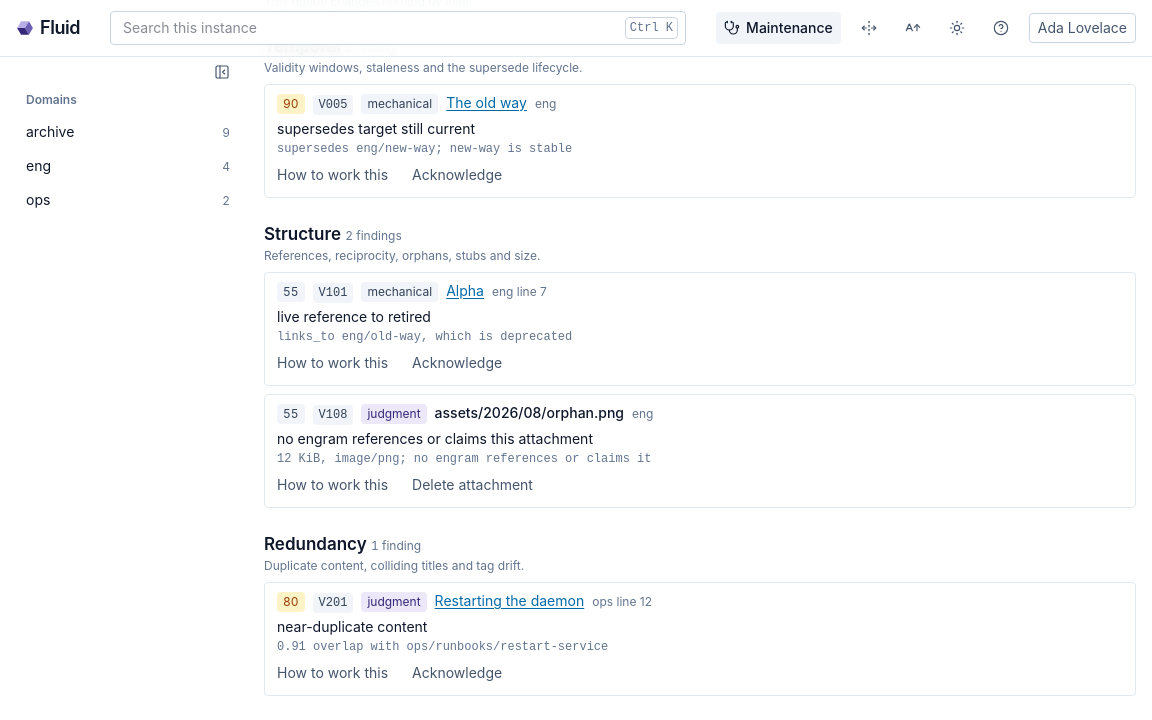
Test: a finding with no engram behind it › asks before it deletes, and takes no for an answer
(page scrolled)
Click the button "Delete attachment": (473, 485) [404,471,541,499]
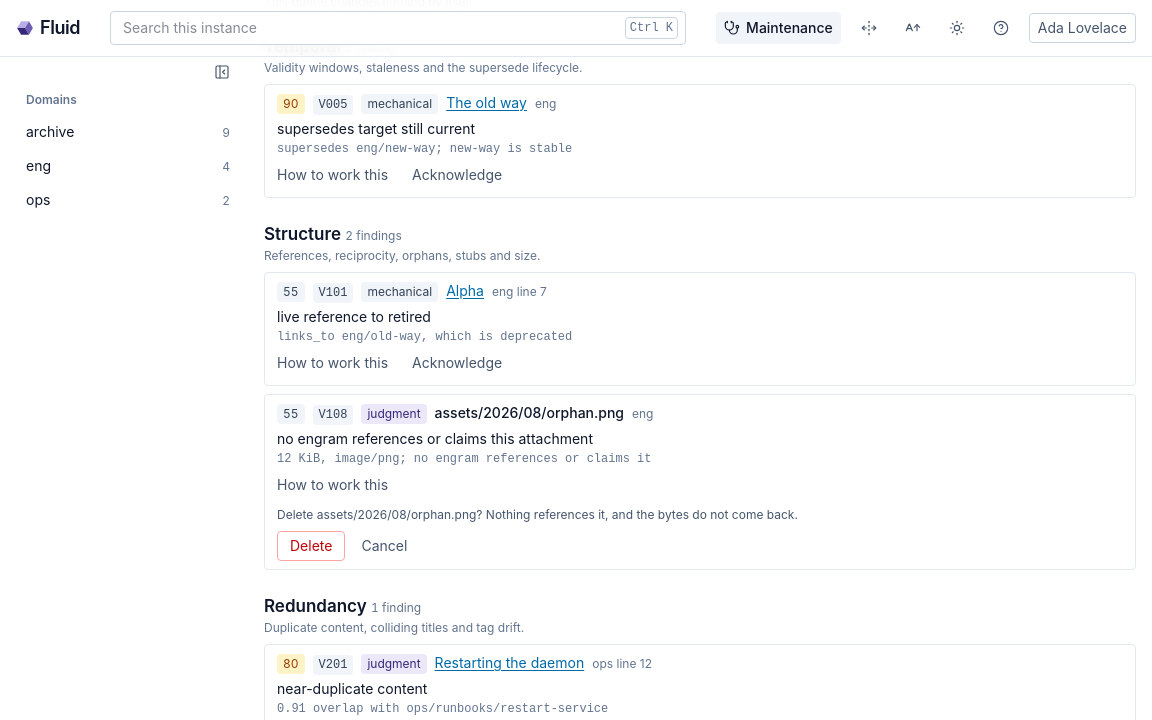
Click the button "Cancel": (384, 546) [353,531,415,561]
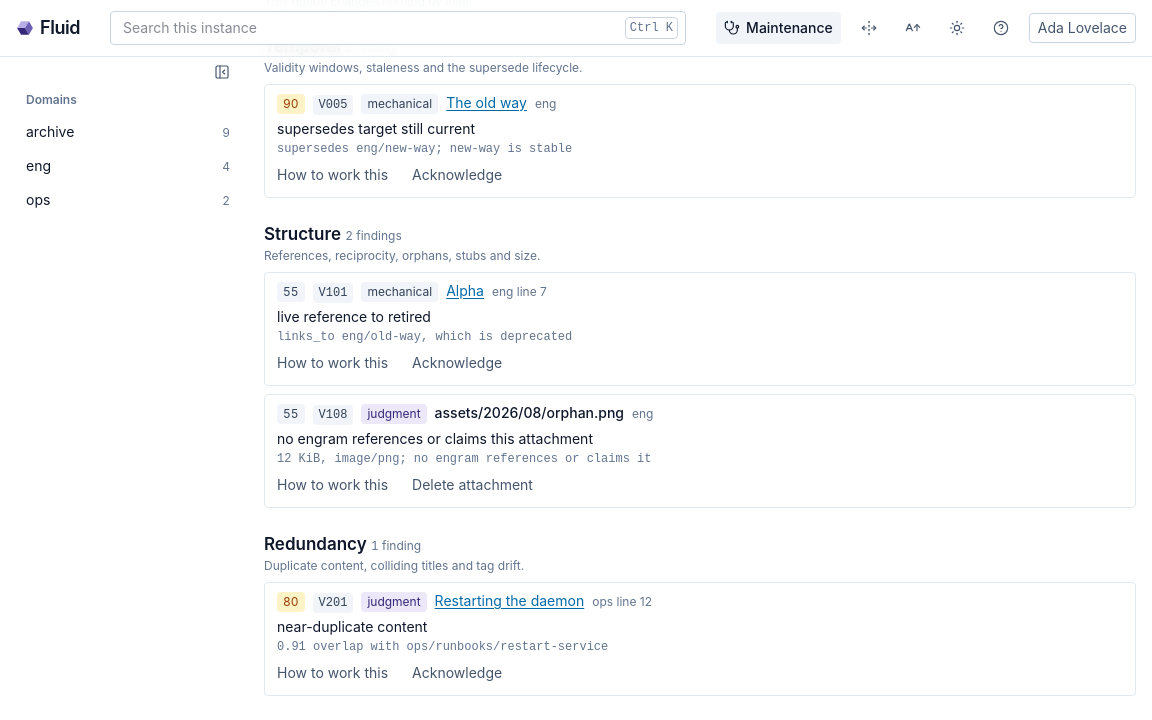
Expected: the button "Delete attachment" is shown, [404,471,541,499]
